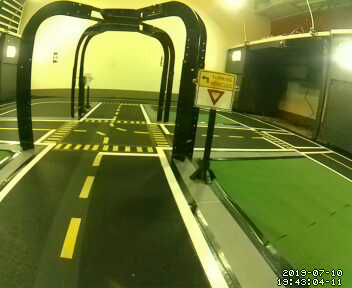Turn Yield: (193, 69, 236, 115)
